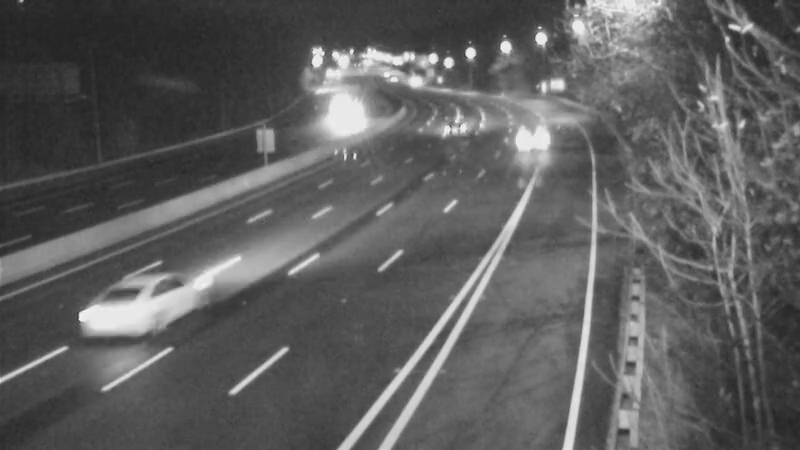vehicle: (69, 252, 179, 362), (386, 57, 436, 107), (507, 115, 557, 165), (430, 104, 480, 154), (321, 89, 371, 139)
